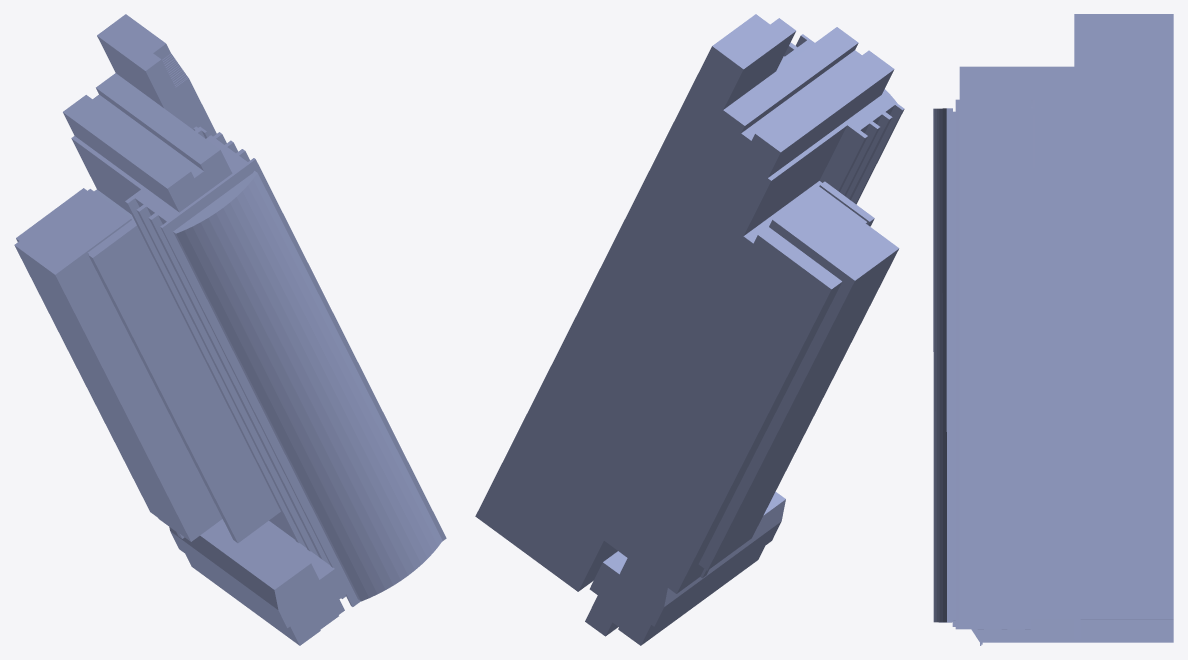
3 views of the same model, side by side, from view 1: azimuth 30°, elevation 25°; view 2: azimuth 150°, elevation 25°; view 3: azimuth 270°, elevation 25° (orthographic). The views are drawn at different scales.
Parts seen in each view (by area): view 1: E1; view 2: E1; view 3: E1.
Part boxes in pixels (x1,y1,x2,y2): E1: (14,14,446,645); E1: (475,14,904,645); E1: (933,14,1173,645).
Bounding box in the file's own units: 64.03 × 101 × 37.61.
